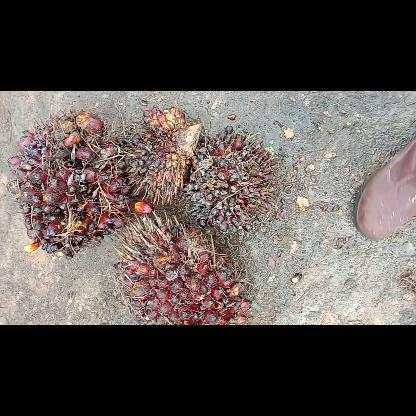Kurang masak: (8, 108, 132, 260)
TBS abnormal: (184, 126, 274, 230), (123, 107, 201, 204)
TBS masak: (112, 210, 250, 324)
